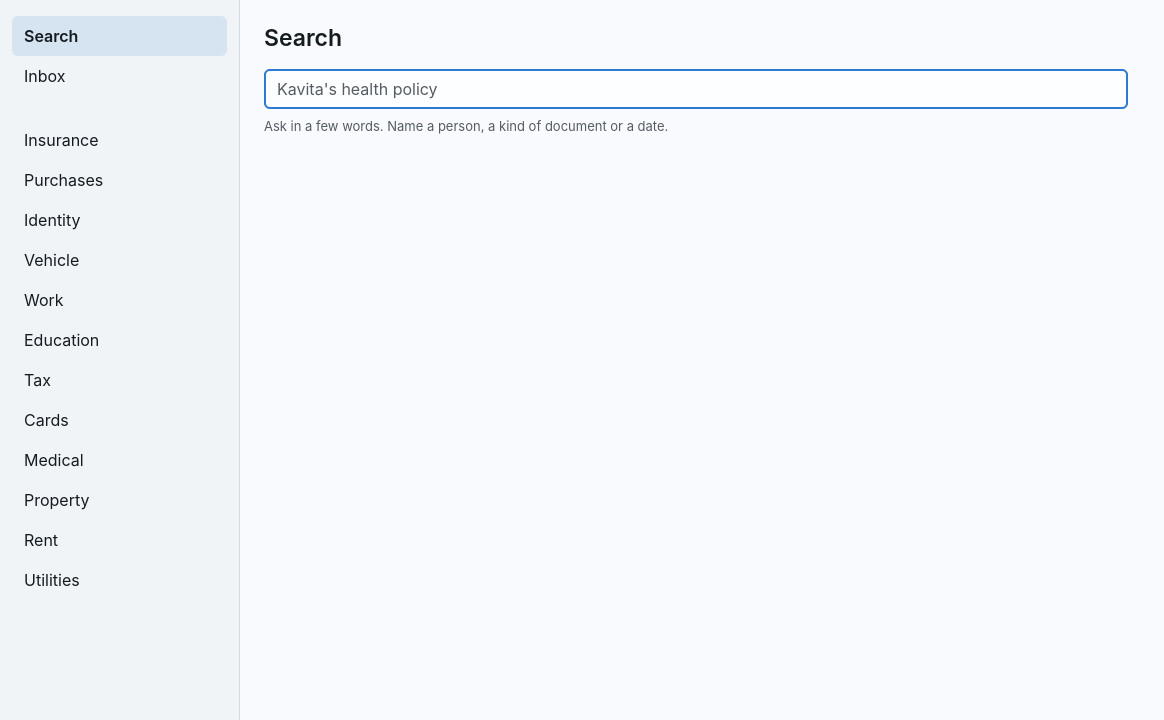
Test: a list from a prompt › shows the sentence and the rows, not the quick finder or an answer
Type "health policies that expire" into the dropdown named "Ask about your documents" at [696, 89], box 264,69 -> 1128,109
Wait 600 ms
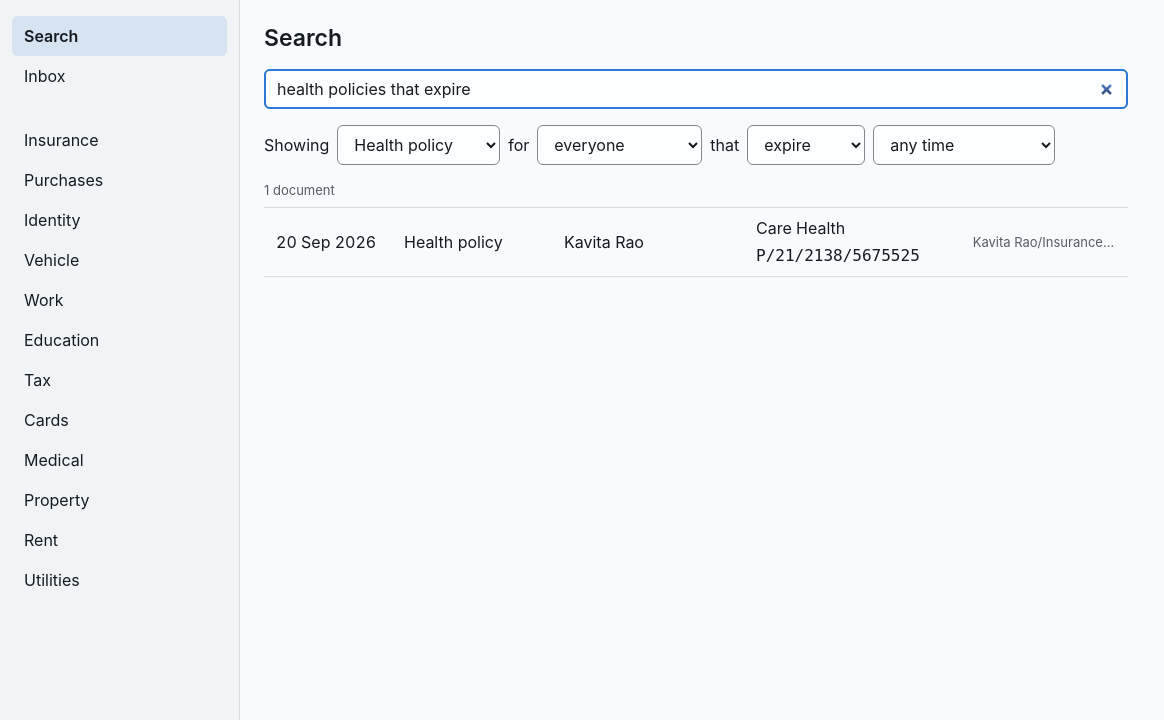
Expected: the dropdown named "Kind of document" shows "Health policy", 337,125 -> 500,165
Expected: the text "1 document" is shown, 264,182 -> 335,198
